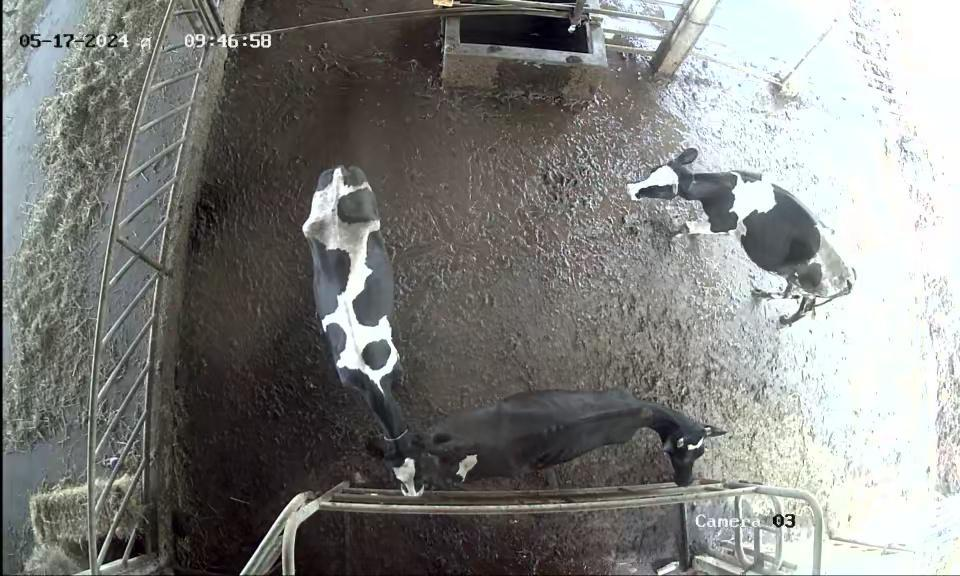stand: (614, 124, 863, 327), (295, 168, 428, 499), (422, 342, 708, 489)
